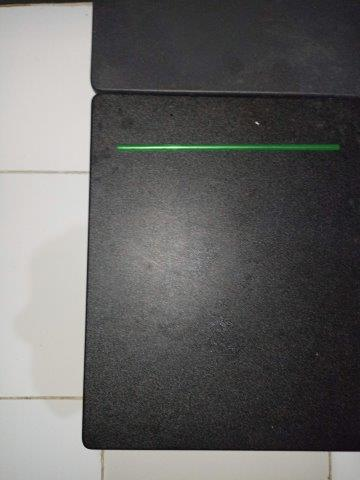sedotan: (118, 143, 340, 152)
